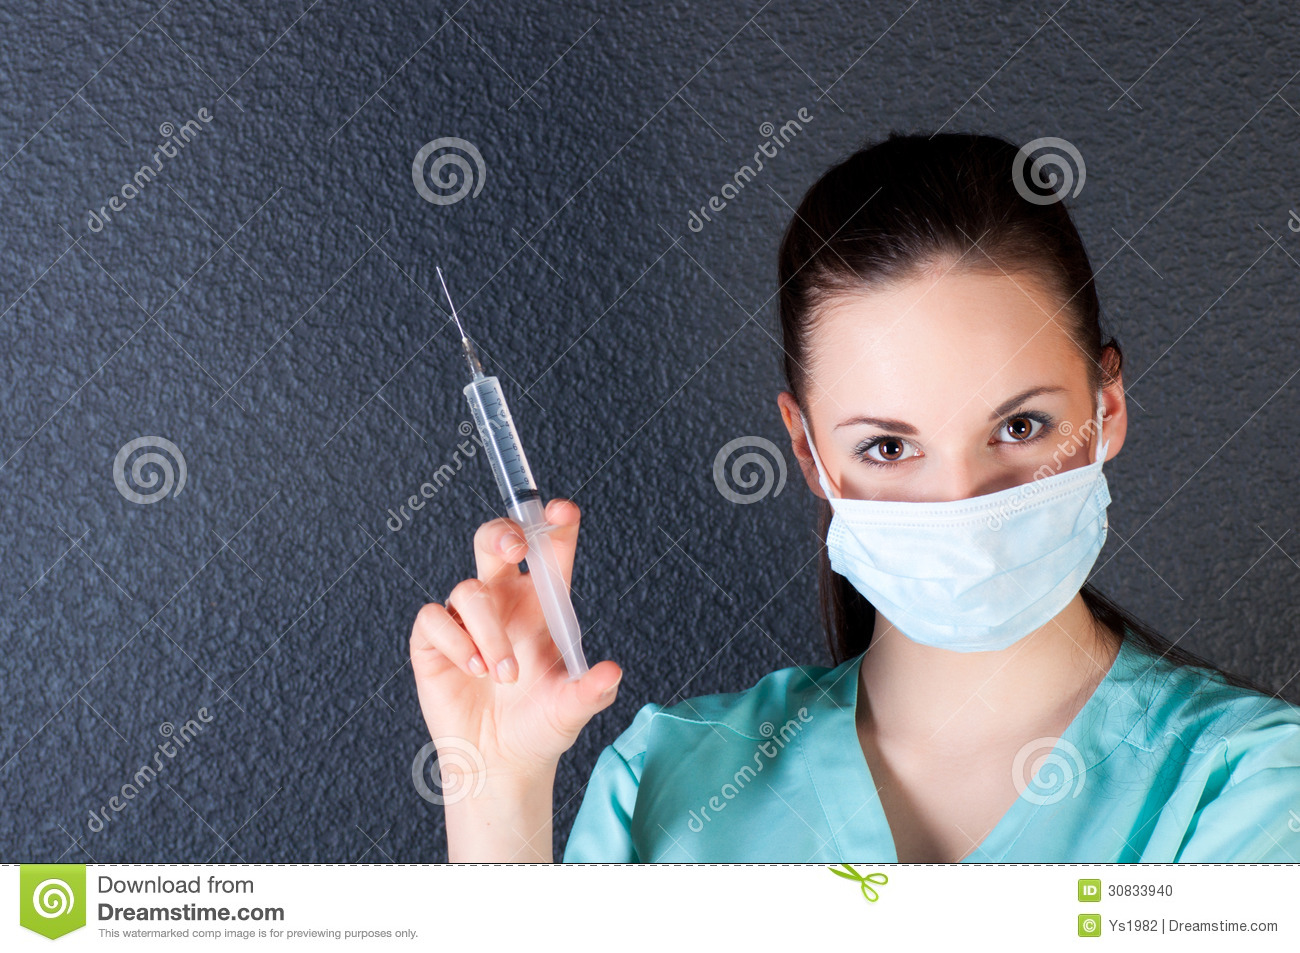mask: (830, 462, 1121, 655)
